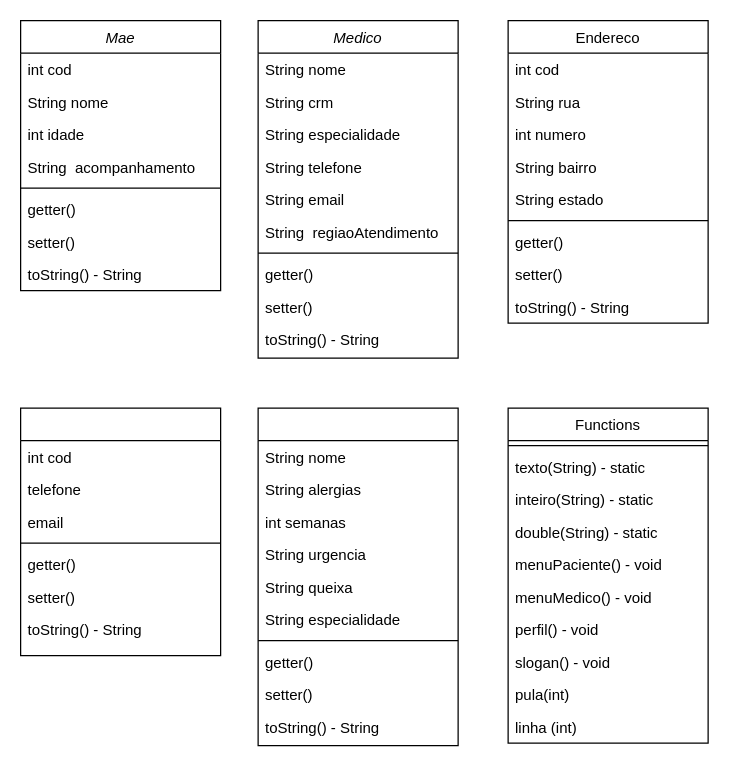
This 729x766 diagram has some shape labels left out. Each missing label, with the box of its shape:
Contato: (19, 407, 221, 656)
Triagem: (257, 407, 458, 746)
